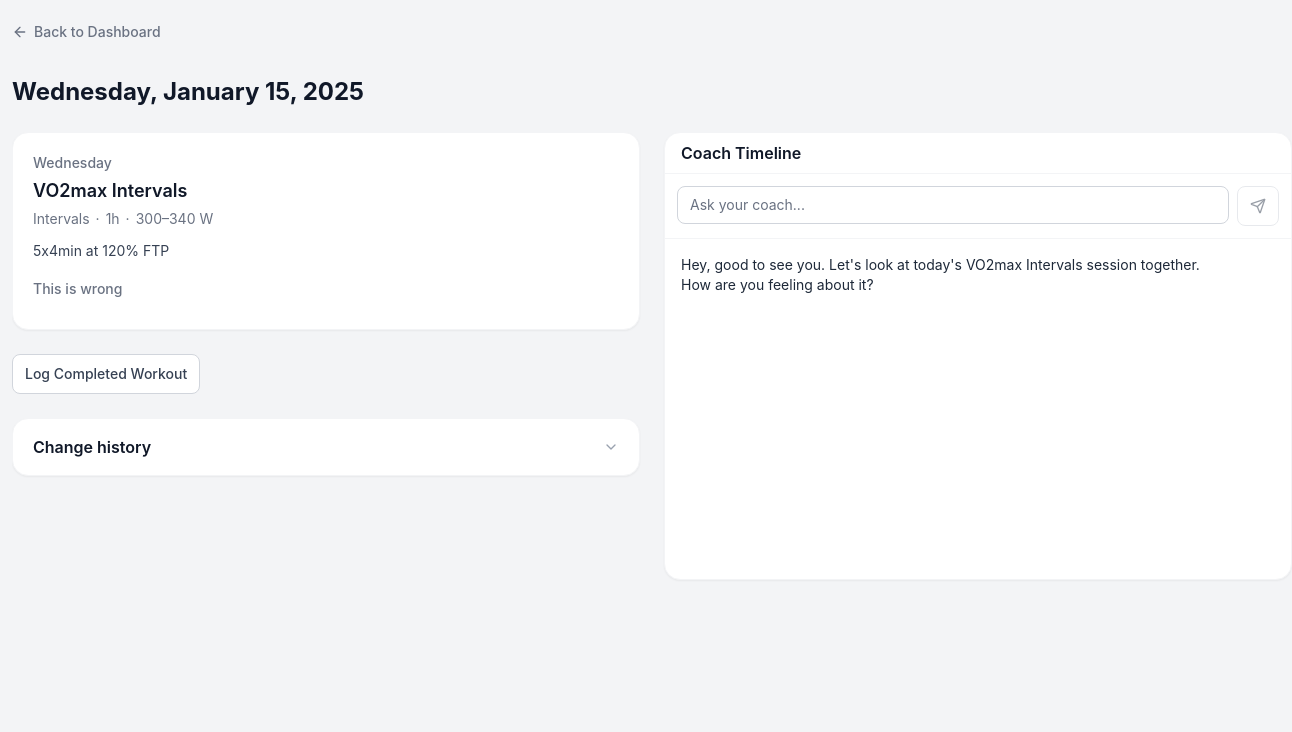
WorkoutPage › loads the change history for the day when expanded, marking blocked attempts
Click the button "Change history": (92, 447) [13,419,639,475]
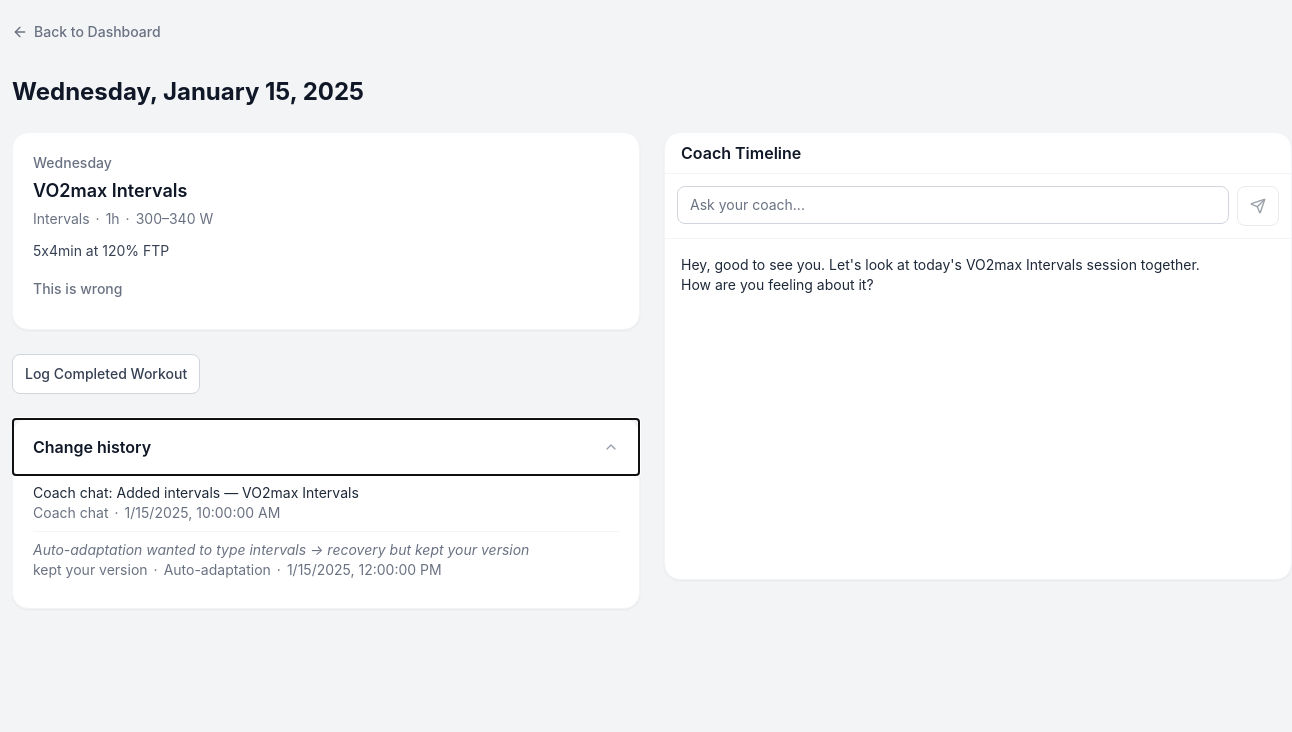
Expected: the text "Coach chat: Added intervals — VO2max Intervals" is shown, [33,484,359,501]
Expected: the text "Auto-adaptation wanted to type intervals → recovery but kept your version" is shown, [33,541,529,558]
